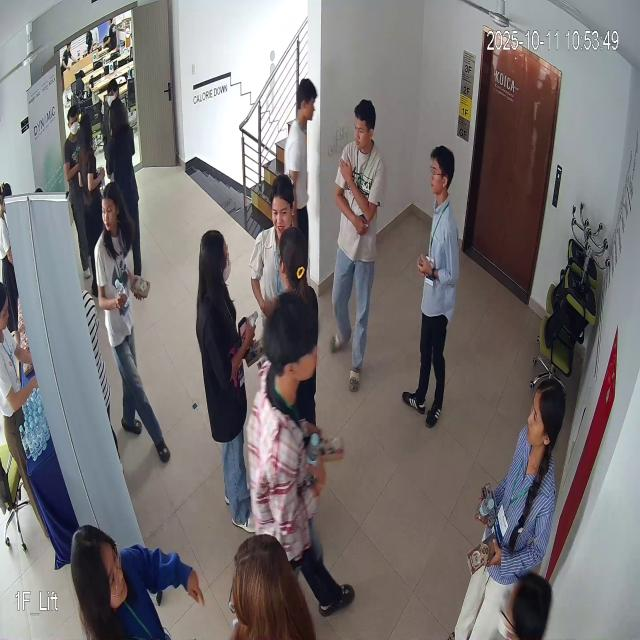face: (93, 181, 134, 246), (270, 167, 299, 240), (428, 141, 458, 206), (352, 95, 378, 156)
